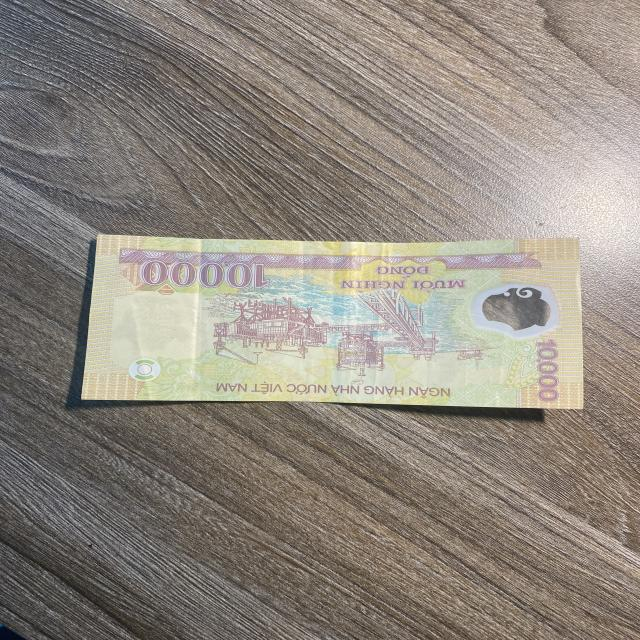10 000 VND: (72, 229, 587, 412)
